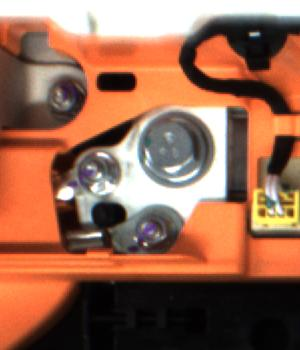nut_b: (134, 106, 227, 190)
